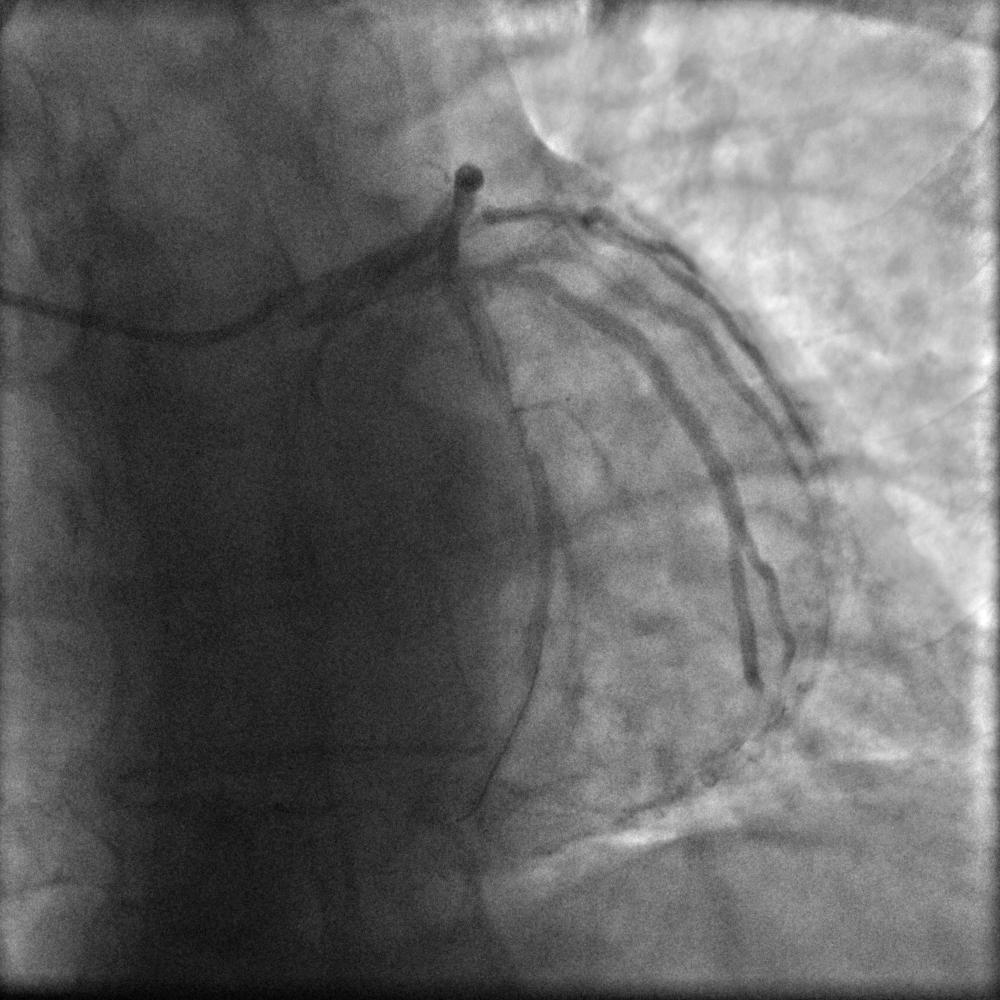Stenosis: (504, 394, 544, 475)
